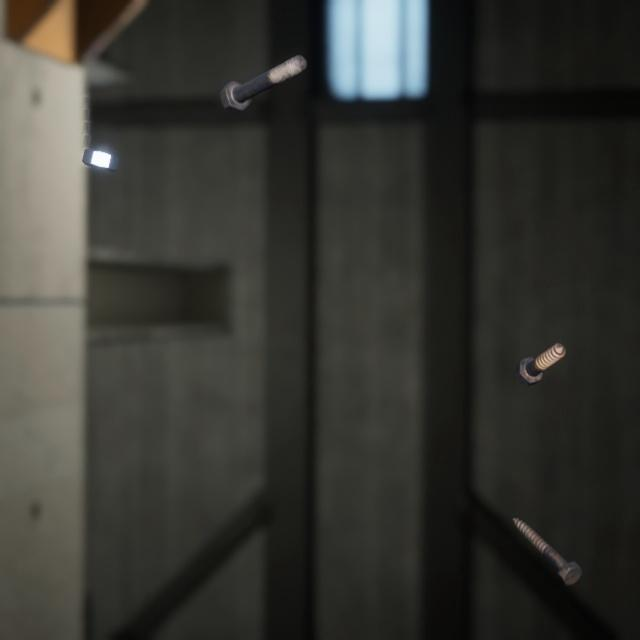bolt: (215, 39, 311, 106), (508, 491, 586, 566), (510, 319, 570, 372)
nut: (77, 130, 123, 162)
